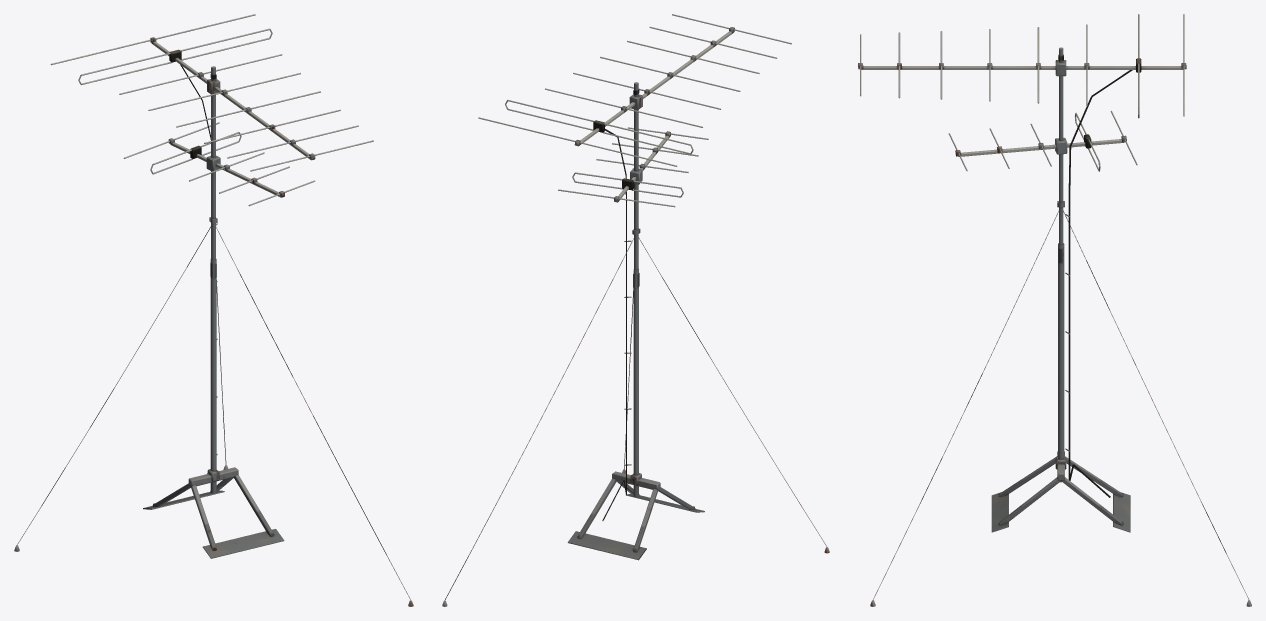
Rendered from tv_antenna-low.glb.
3 renders of one model, left to right at view 1: azimuth 30°, elevation 25°; view 2: azimuth 150°, elevation 25°; view 3: azimuth 270°, elevation 25°, orthographic. The views are drawn at different scales.
Visible parts, largest first — view 1: tv_antenna; view 2: tv_antenna; view 3: tv_antenna.
Boxes of the visible parts, bbox=[...] form: tv_antenna: bbox=[14, 14, 413, 606]; tv_antenna: bbox=[442, 14, 829, 606]; tv_antenna: bbox=[858, 14, 1251, 606].
Size of the model in its own units: 2.34 by 3.62 by 2.56.
Materials: 1 (1 with a texture image).
